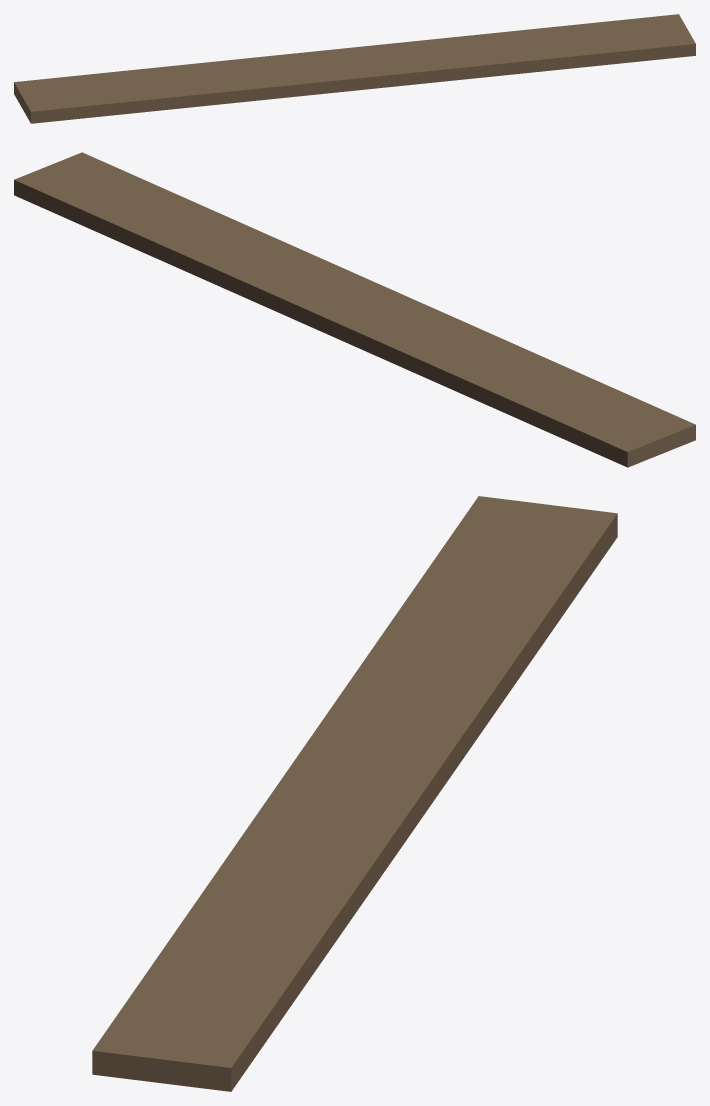
File: SmallBridgeExport.fbx
3 renders of one model, top to bottom at view 1: azimuth 30°, elevation 25°; view 2: azimuth 150°, elevation 25°; view 3: azimuth 270°, elevation 25°, orthographic. The views are drawn at different scales.
Parts seen in each view (by area): view 1: Bridge2; view 2: Bridge2; view 3: Bridge2.
Boxes of the visible parts, x1,y1,x2,y2 form: Bridge2: (14,14,695,123); Bridge2: (14,152,695,467); Bridge2: (92,496,617,1091).
Bounding box in the file's own units: 22.87 × 0.4453 × 8.88.
